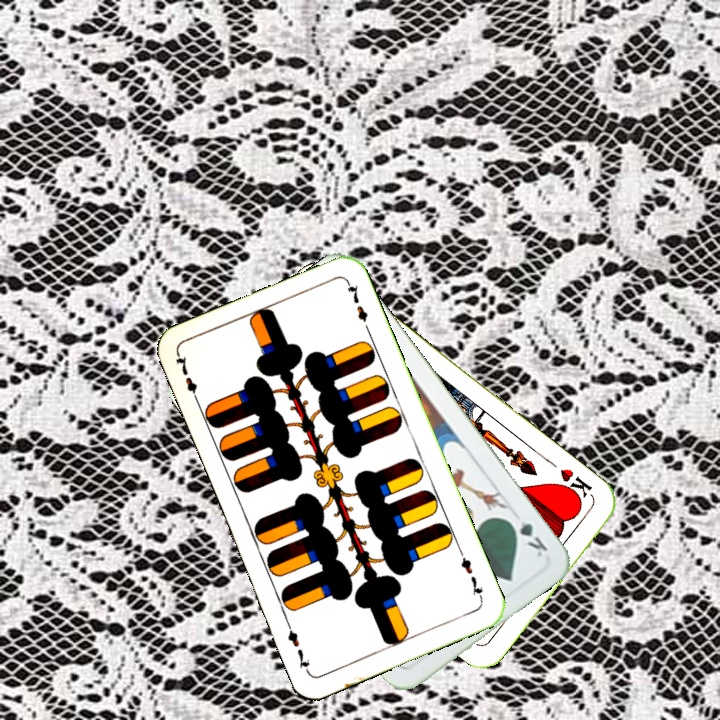E7: (171, 351, 203, 407), (455, 547, 486, 603)
GK: (503, 514, 551, 560)
HK: (554, 464, 596, 505)
